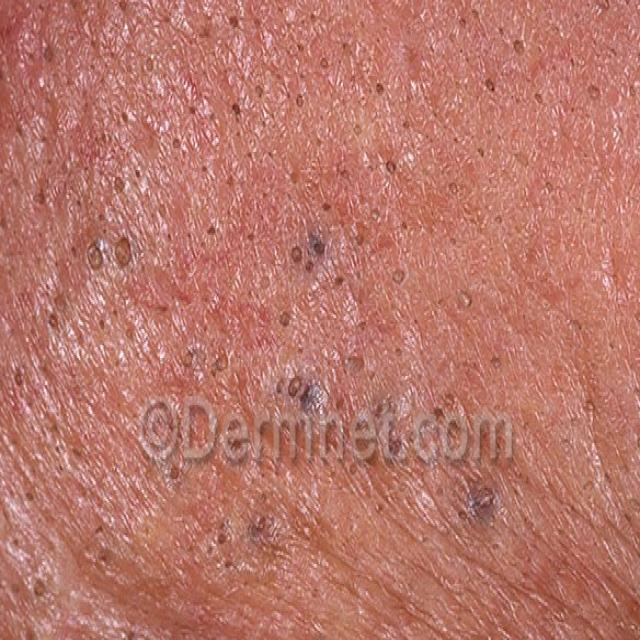Acne: (0, 14, 533, 640), (251, 293, 380, 497), (440, 390, 551, 604)
